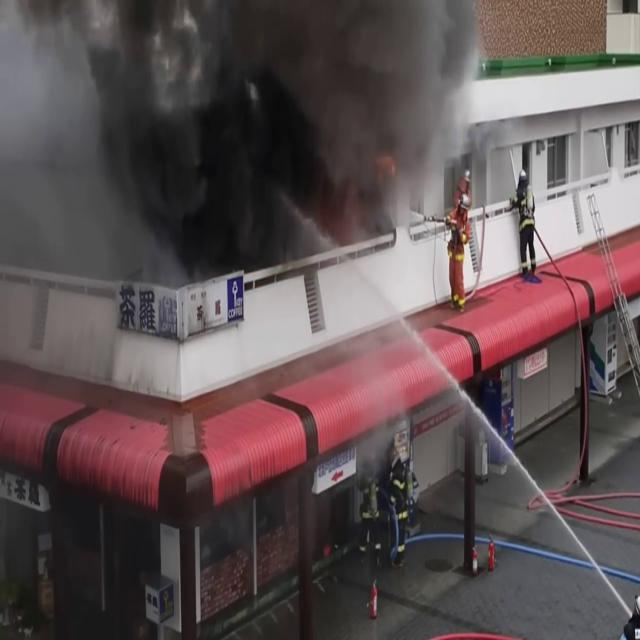Smoke: (74, 0, 484, 269)
